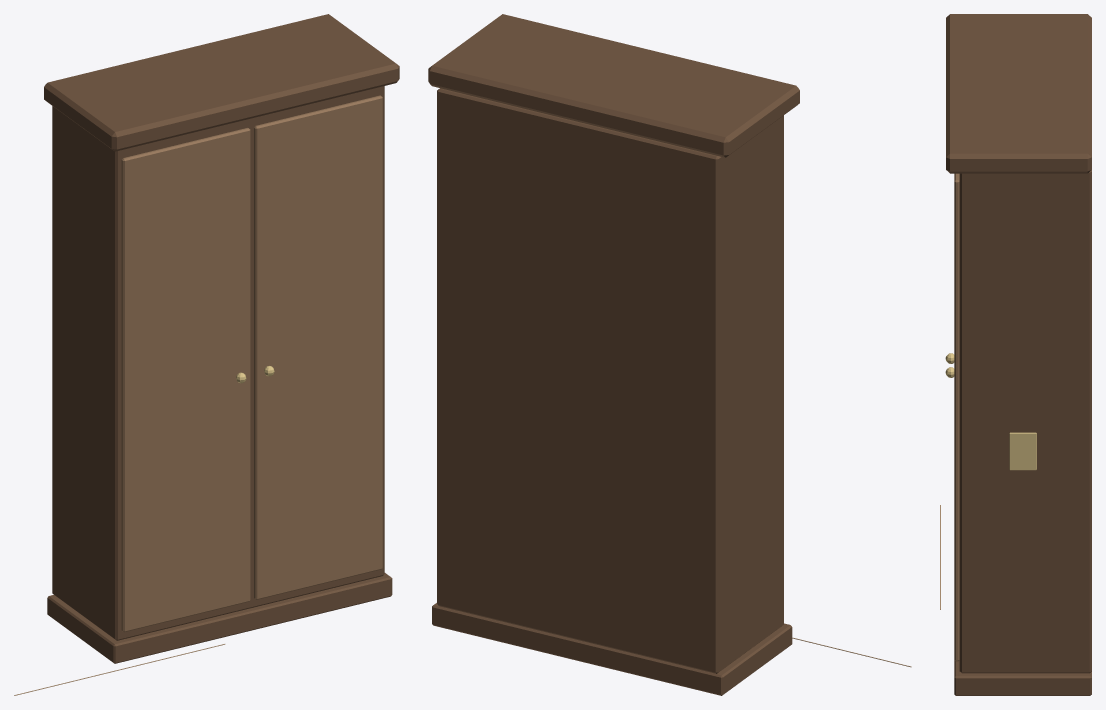
File: hall_wardrobe.fbx
The picture shows the model from 3 angles, left to right: view 1: azimuth 30°, elevation 25°; view 2: azimuth 150°, elevation 25°; view 3: azimuth 270°, elevation 25°; orthographic projection. The views are drawn at different scales.
Visible parts, largest first — view 1: Wardrobe; view 2: Wardrobe; view 3: Wardrobe.
Boxes of the visible parts, x1,y1,x2,y2 form: Wardrobe: (14, 14, 399, 695); Wardrobe: (428, 14, 911, 695); Wardrobe: (940, 14, 1091, 695).
Size of the model in its own units: 1.66 by 2.18 by 0.5515.
